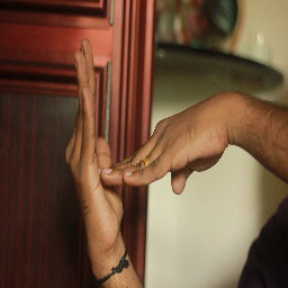Z: (63, 34, 234, 257)
